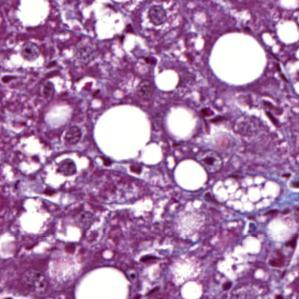steatosis: (97, 100, 162, 162), (211, 32, 270, 84)
